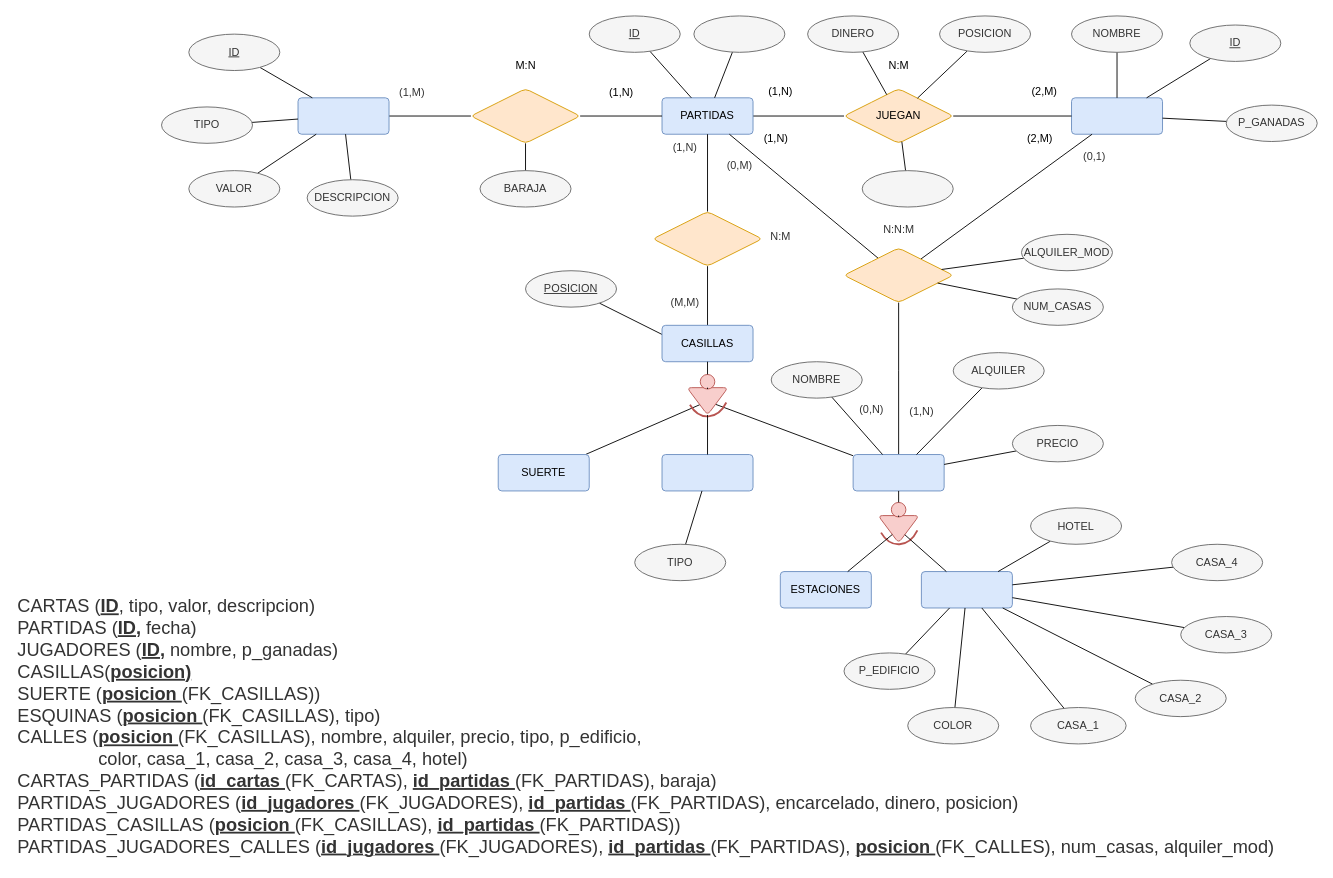
Image size: 1333x878. Some labels were removed from this diagram. The shapes that lost their labels are listed below. From the top down, each one's box as (x1, y1, x2, y2) in pixels, then its label:
(693, 15, 785, 52): FECHA
(297, 97, 389, 134): CARTAS
(470, 88, 580, 143): HAY
(1071, 97, 1163, 134): JUGADORES
(861, 170, 953, 207): ENCARCELADO
(652, 211, 762, 266): SE JUEGAN EN
(843, 247, 953, 303): COMPRAN
(661, 454, 753, 491): ESQUINAS
(852, 454, 944, 491): CALLES
(920, 571, 1012, 608): NORMALES
